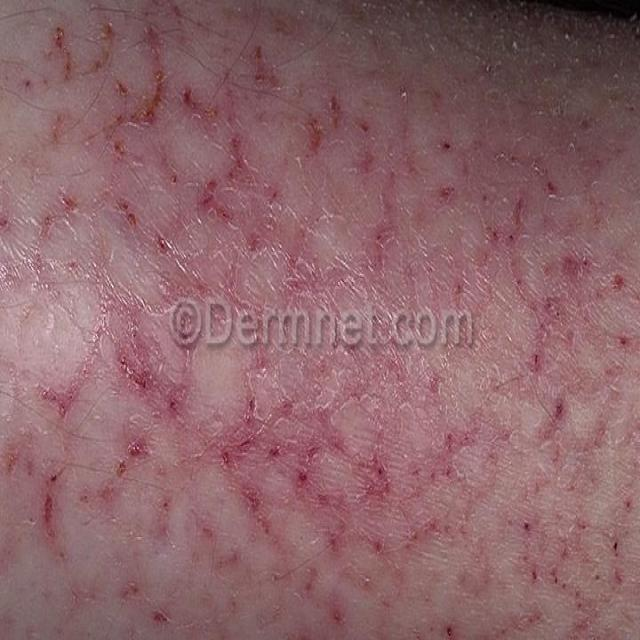Eczema: (9, 5, 624, 640)
